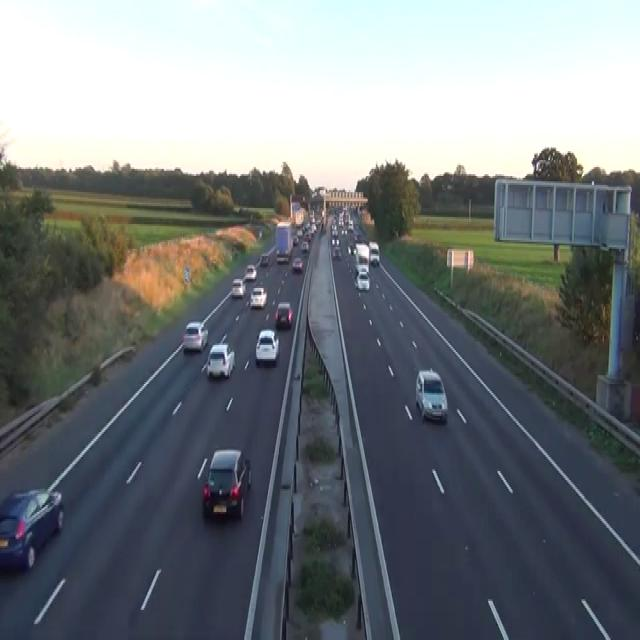Car: (0, 487, 64, 569), (202, 448, 251, 521), (415, 368, 448, 423), (206, 343, 235, 379), (255, 329, 279, 364), (182, 320, 208, 352), (275, 301, 293, 327), (249, 286, 267, 308), (355, 270, 370, 290), (231, 277, 245, 297), (369, 240, 379, 265), (244, 263, 256, 281), (354, 262, 369, 276), (276, 249, 289, 263), (292, 256, 303, 272), (332, 246, 341, 260), (260, 252, 268, 266), (347, 242, 355, 254), (331, 235, 340, 245), (300, 240, 308, 251), (331, 224, 338, 236), (303, 231, 311, 240), (292, 235, 298, 245), (341, 228, 346, 235), (259, 230, 262, 238)
Truck: (275, 221, 292, 263), (354, 242, 369, 276)
